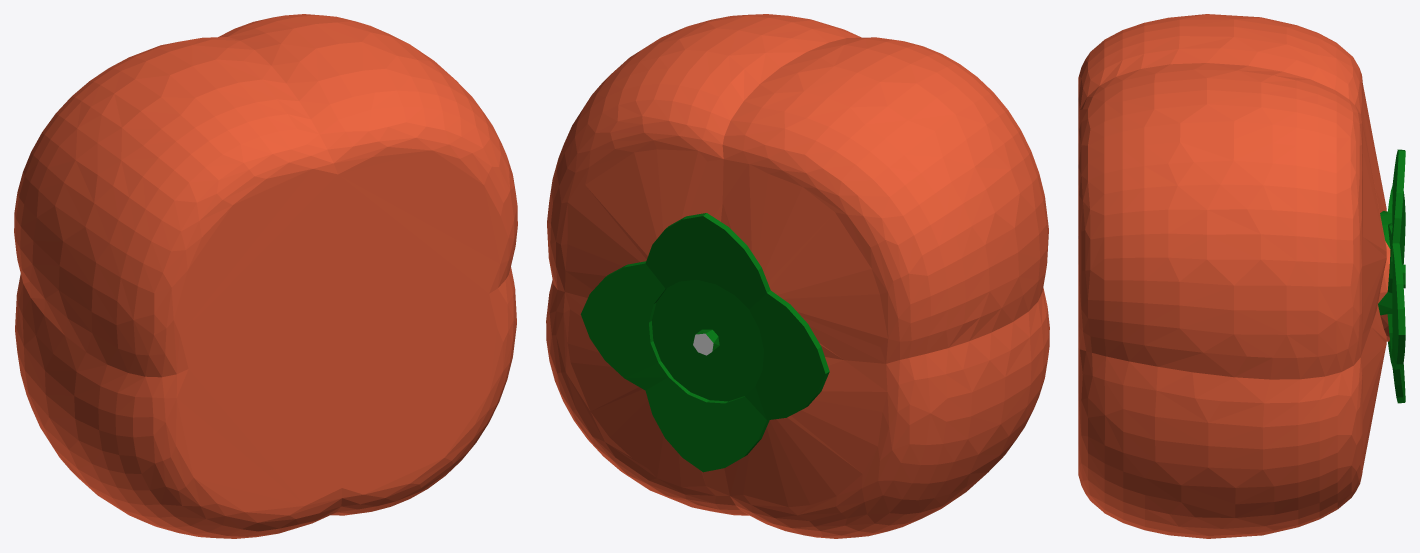
Rendered from persimmon.fbx.
The picture shows the model from 3 angles, left to right: view 1: azimuth 30°, elevation 25°; view 2: azimuth 150°, elevation 25°; view 3: azimuth 270°, elevation 25°; orthographic projection. The views are drawn at different scales.
Parts seen in each view (by area): view 1: 零件8; view 2: 零件8; view 3: 零件8.
Boxes of the visible parts, left/top/right/bottom form: 零件8: left=14, top=14, right=517, bottom=538; 零件8: left=546, top=14, right=1049, bottom=538; 零件8: left=1078, top=14, right=1405, bottom=538.
Size of the model in its own units: 20379 by 20377 by 13811.
